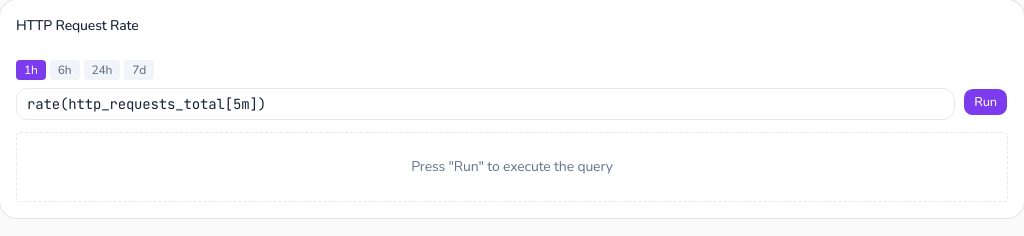
Scenario: PromQLChartCard › shows 'Prometheus not available' when the response carries no data
This screenshot has width=1024, height=236.
Click the button "Run".
click(986, 102)  # box [963,88,1008,116]
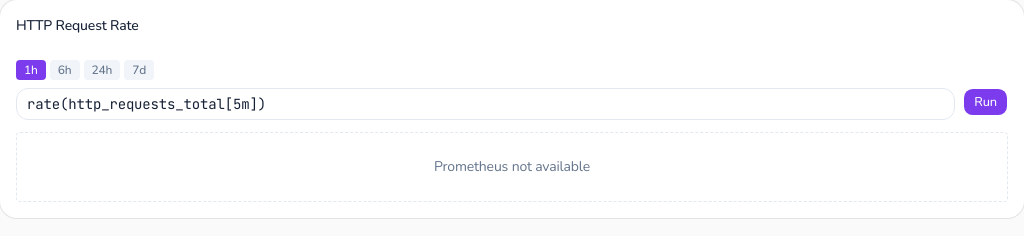
Check: the text "Prometheus not available" is shown, box [16,132,1008,202]
